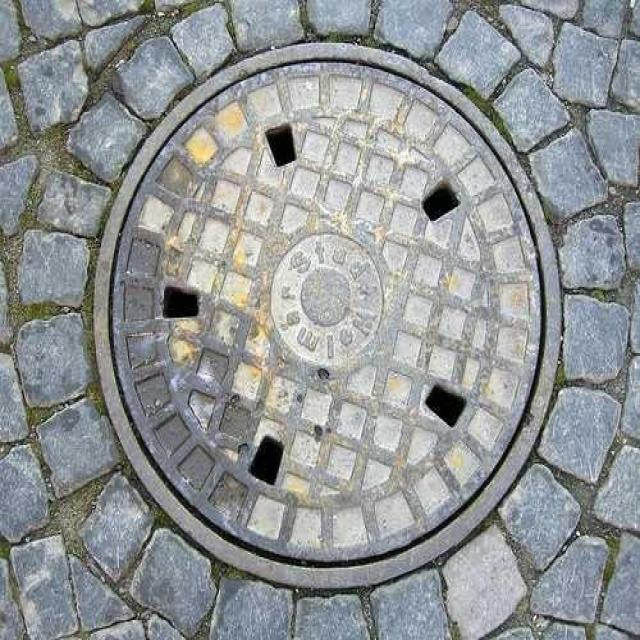manhole: (95, 43, 560, 588)
